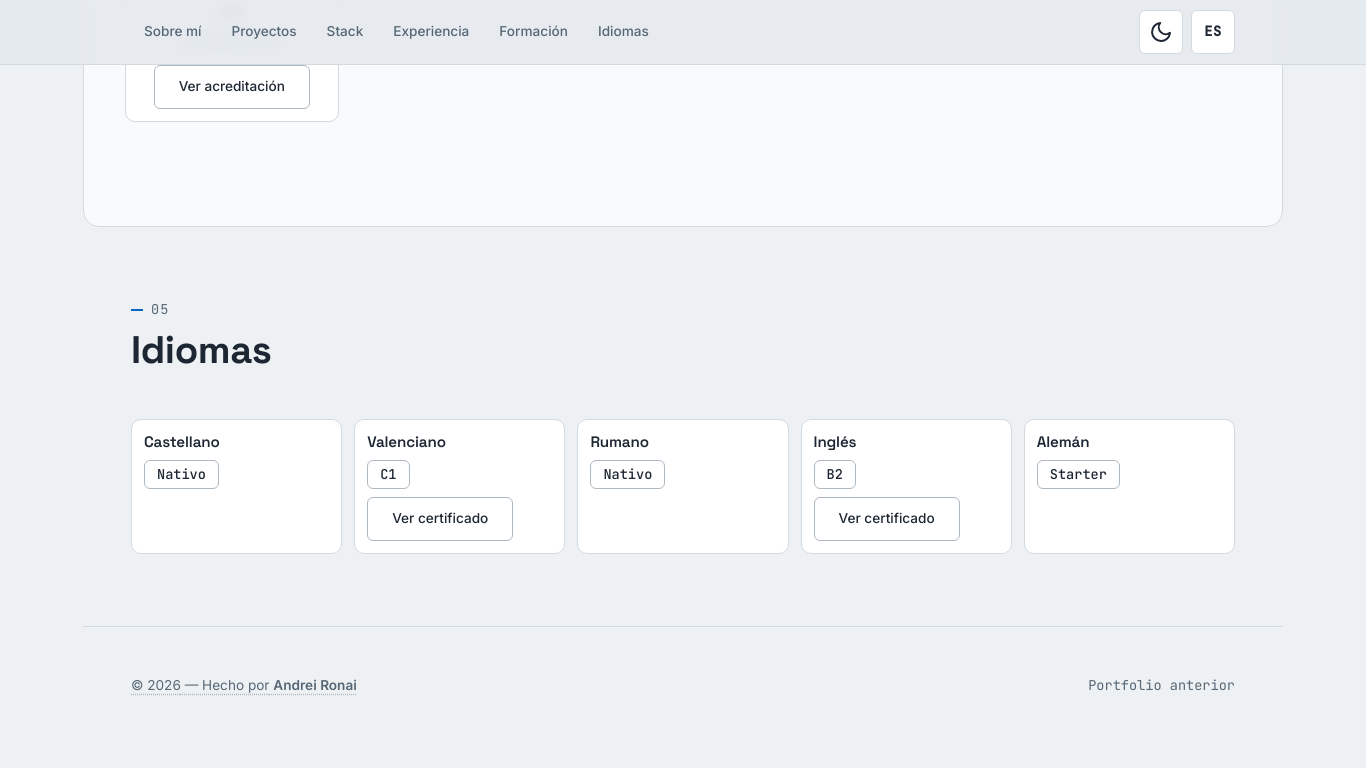
Test: Footer → ficha RVA Portfolio (overlay reutilizado) › la línea de copyright es un botón que abre la ficha; Escape cierra
(page scrolled)
Click the button named "Abrir la ficha del proyecto" at (244, 686), box x1=131 y1=675 x2=357 y2=696
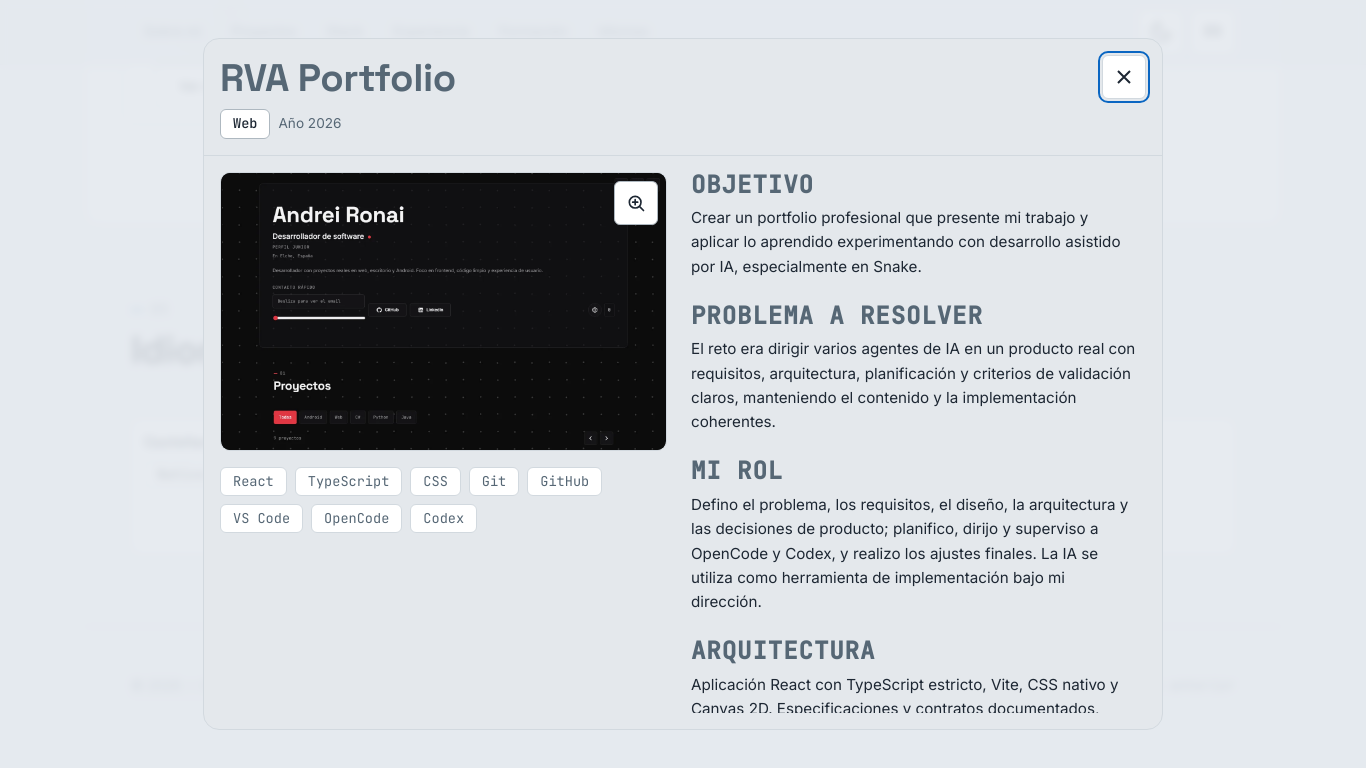
Check: the dialog "RVA Portfolio" is shown
Check: the text "OpenCode" is shown, box x1=311 y1=504 x2=402 y2=533
Press Escape
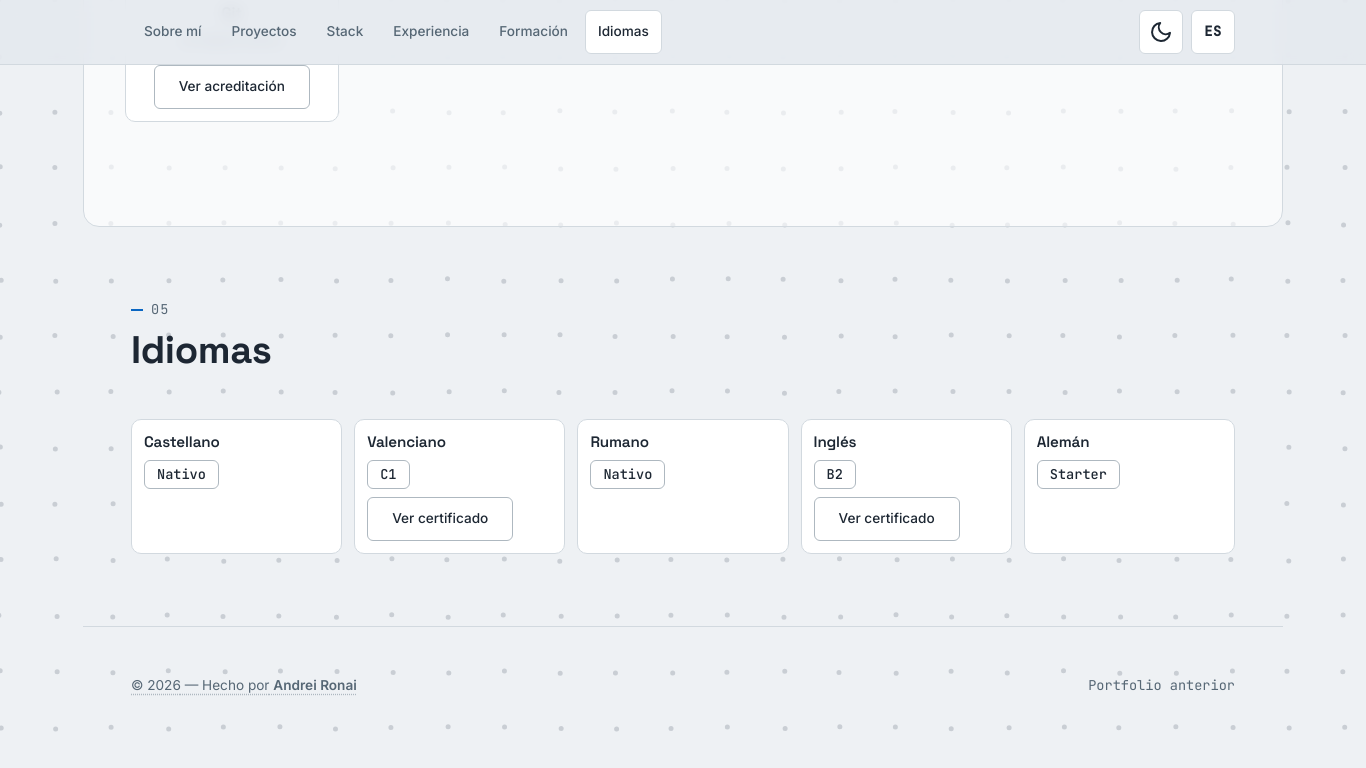
Check: the dialog is gone
